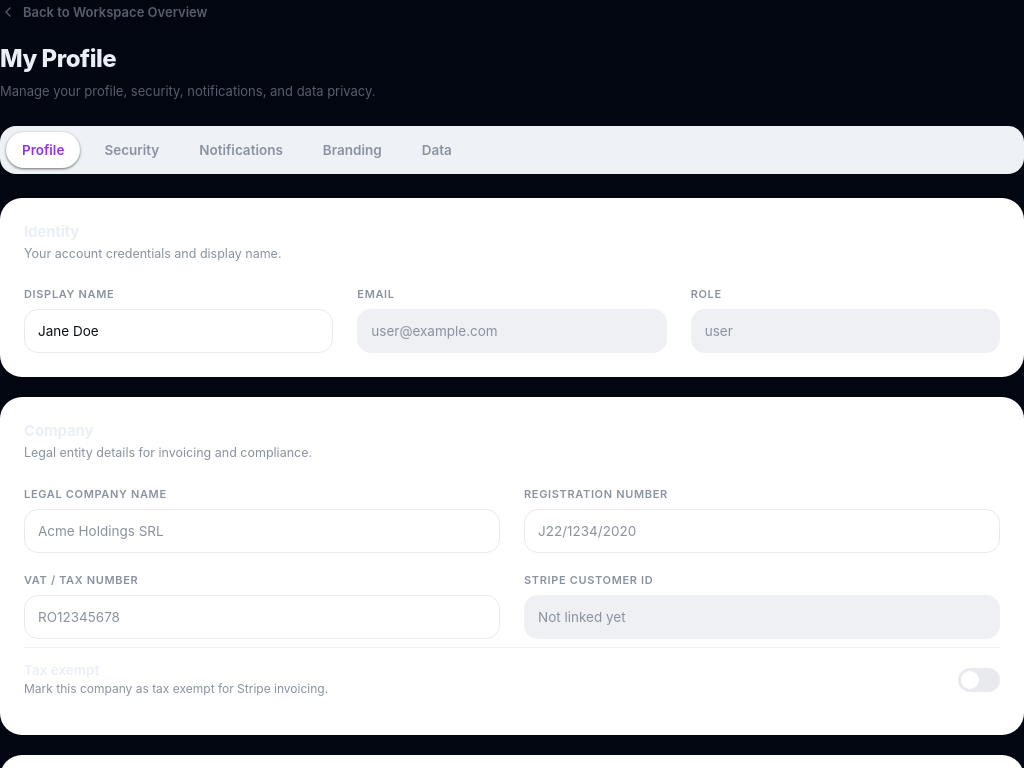
Test: AccountSettingsPage › requires a programmatic label for the SecuritySection passkey field
Click the tab "Security": (132, 150) [88, 132, 175, 168]
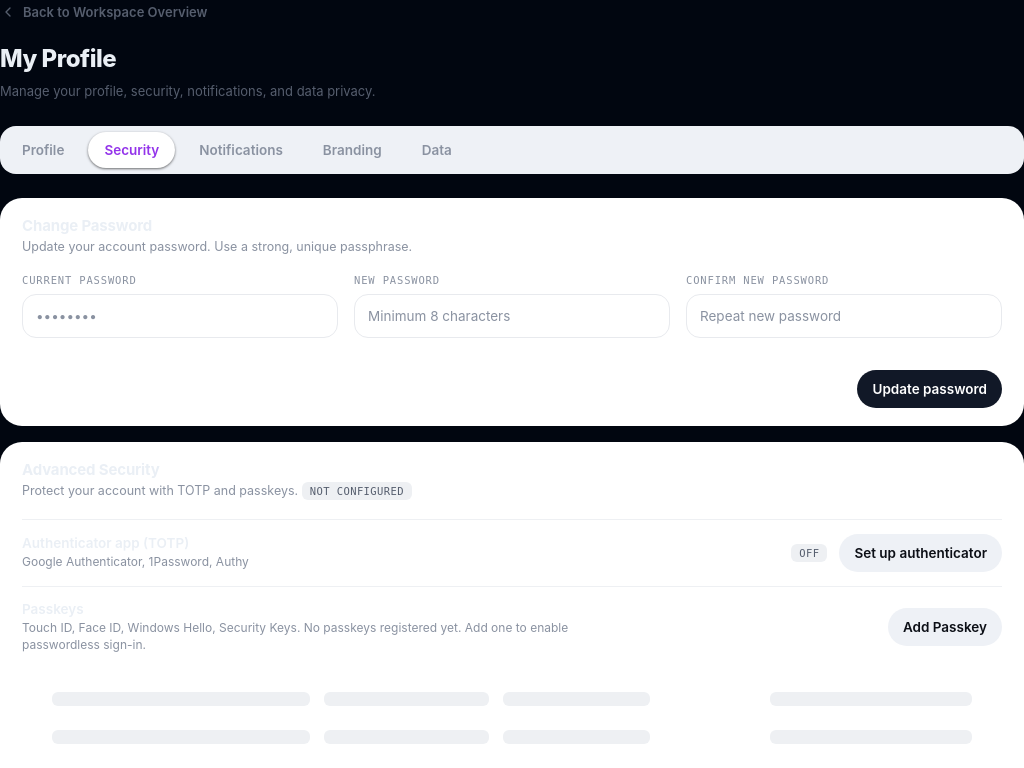
Click the button "Add Passkey": (945, 627) [888, 608, 1002, 646]
(page scrolled)
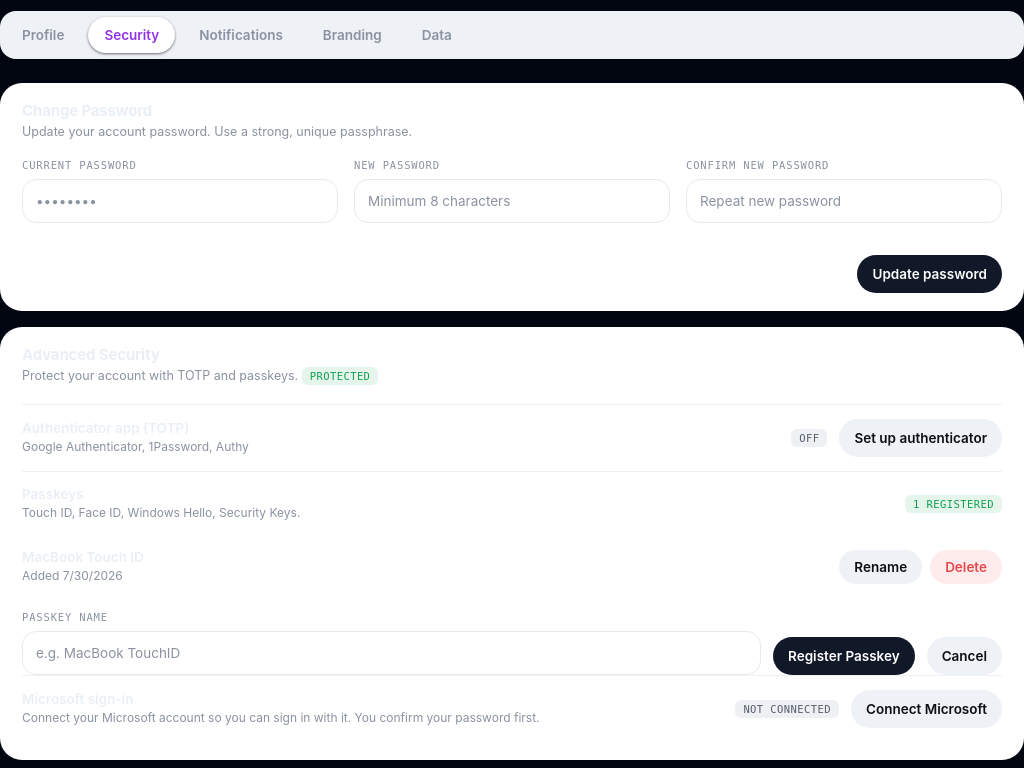
Expected: the field labelled "Passkey name" is shown, [22, 631, 761, 675]
